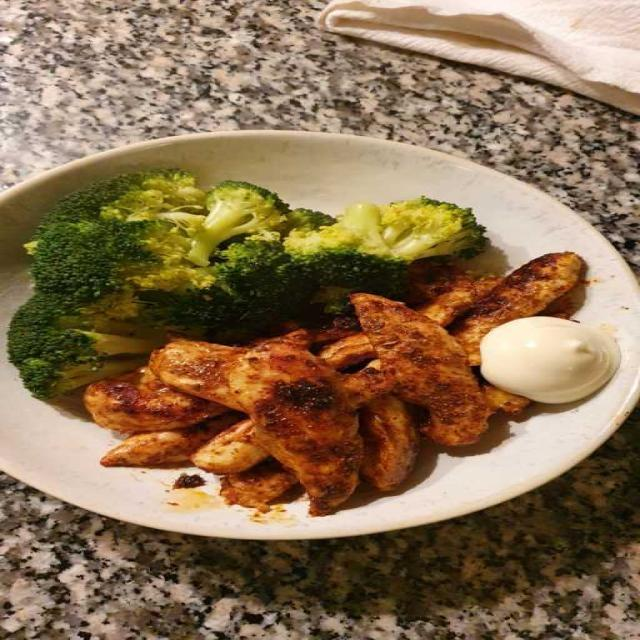broccoli: (0, 184, 484, 386)
chicken: (94, 253, 586, 512)
mayonnaise: (475, 318, 614, 402)
